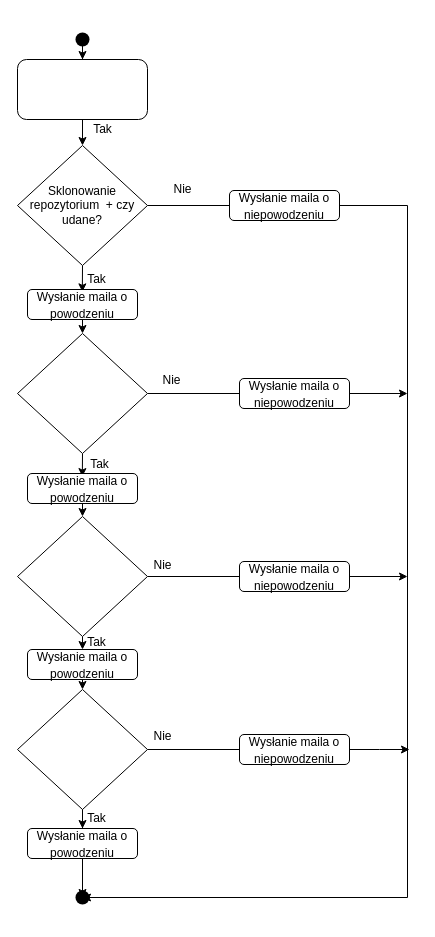
The diagram is 435 pixels wide and 937 high, and some of its shapes have lost their labels. Here are the shapes that lost their labels. From the top down, the box of each, then its label:
(16, 58, 148, 120): Uruchomienie pipeline'u
(16, 332, 148, 454): Zbudowanie projektu + czy udane?
(16, 516, 148, 636): Test + czy udany?
(16, 688, 148, 810): Publish + czy udany?
